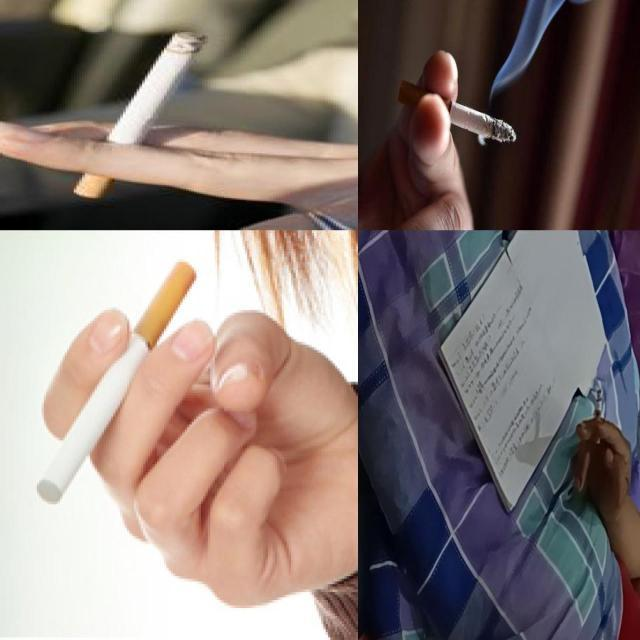smoking: (35, 256, 202, 502), (72, 29, 206, 201), (398, 78, 518, 144), (594, 390, 602, 444)
